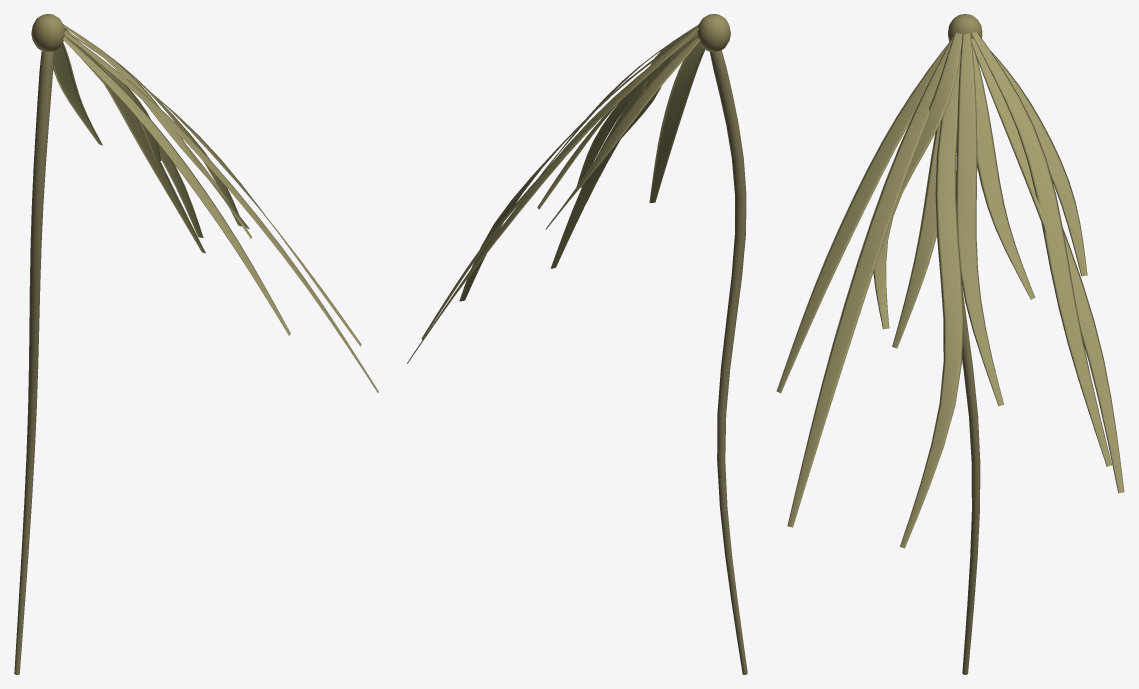
File: bull_kelp.glb
3 renders of one model, left to right at view 1: azimuth 30°, elevation 25°; view 2: azimuth 150°, elevation 25°; view 3: azimuth 270°, elevation 25°, orthographic. The views are drawn at different scales.
Parts seen in each view (by area): view 1: bull_kelp; view 2: bull_kelp; view 3: bull_kelp.
Boxes of the visible parts, box(x1,y1,x2,y2) form: bull_kelp: box(14, 14, 378, 674); bull_kelp: box(407, 14, 747, 674); bull_kelp: box(776, 14, 1124, 674).
Size of the model in its own units: 3.04 by 5.96 by 2.79.
